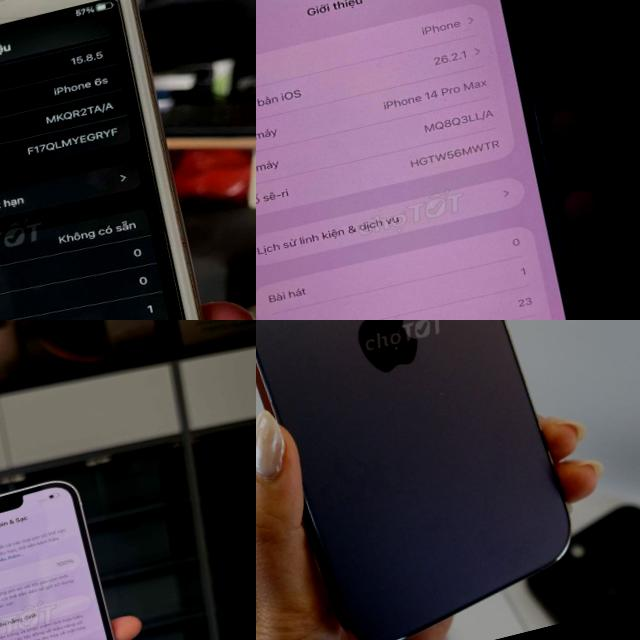gen_12_13: (0, 471, 142, 640)
gen_14: (256, 0, 626, 320), (256, 320, 599, 640)
gen_6: (0, 0, 256, 320)
